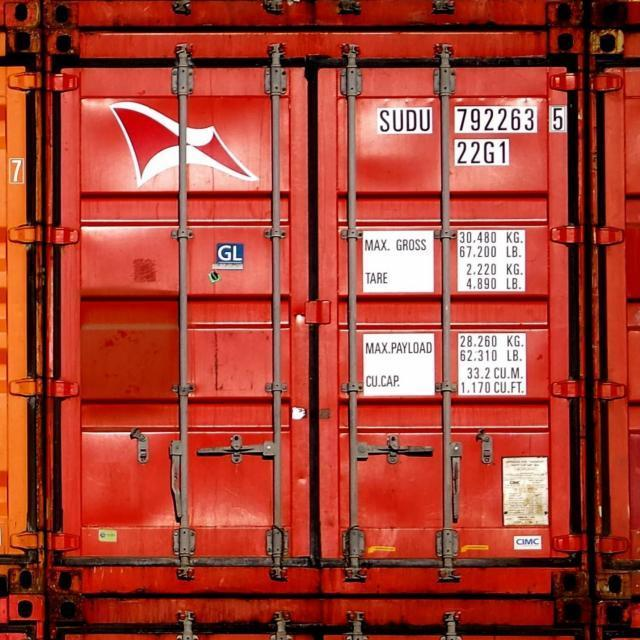ISO: (452, 141, 512, 166)
container_number: (382, 104, 560, 134)
